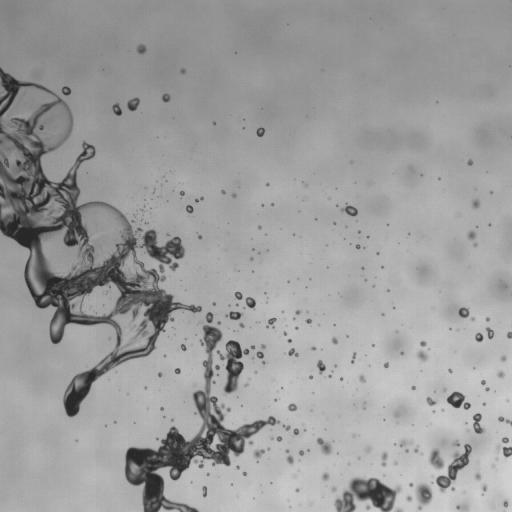droplet: (217, 340, 249, 393), (415, 483, 433, 510), (446, 391, 470, 409), (428, 448, 444, 469), (317, 437, 332, 455), (341, 204, 357, 216), (496, 445, 511, 457), (127, 97, 139, 111), (416, 350, 428, 362), (253, 448, 265, 459), (227, 311, 243, 319), (245, 297, 255, 309), (458, 307, 469, 317), (112, 103, 121, 115), (317, 360, 325, 373), (400, 439, 412, 447), (426, 397, 437, 405), (486, 327, 493, 339), (137, 44, 146, 53), (61, 86, 70, 95), (267, 318, 276, 327), (467, 230, 475, 240), (475, 332, 483, 342), (288, 348, 298, 356), (162, 93, 170, 102), (256, 127, 264, 136), (288, 403, 297, 411), (472, 199, 479, 208), (186, 205, 193, 213), (234, 292, 242, 299), (256, 351, 263, 359), (501, 437, 509, 444), (322, 472, 329, 480), (497, 371, 504, 378), (475, 472, 481, 480), (359, 375, 365, 382), (293, 428, 299, 435), (500, 355, 506, 361), (453, 440, 459, 446), (332, 337, 337, 344), (283, 425, 290, 430), (179, 191, 184, 197), (306, 318, 311, 324), (420, 341, 426, 346), (181, 344, 186, 350), (174, 368, 180, 373), (482, 485, 487, 491), (331, 486, 336, 492), (406, 495, 411, 501), (503, 500, 508, 506), (507, 331, 511, 338), (467, 160, 472, 165), (276, 436, 281, 441), (180, 69, 185, 73), (355, 244, 360, 248), (295, 310, 300, 314), (239, 323, 244, 327), (261, 344, 265, 349), (384, 362, 388, 367), (414, 447, 418, 452), (299, 450, 303, 455), (232, 193, 236, 197), (485, 317, 489, 321), (311, 346, 315, 350), (158, 372, 162, 376), (481, 380, 485, 384), (485, 387, 489, 391), (295, 488, 299, 492), (221, 190, 225, 193), (198, 235, 202, 238), (473, 242, 476, 246), (283, 331, 286, 335), (251, 345, 254, 349), (309, 375, 312, 379), (411, 386, 415, 389), (366, 447, 369, 451), (471, 317, 474, 320), (288, 339, 291, 342), (448, 369, 451, 372), (245, 383, 248, 386), (243, 472, 246, 475), (409, 483, 412, 486), (266, 183, 269, 185), (258, 226, 261, 228), (250, 257, 253, 259), (295, 326, 297, 329), (328, 375, 331, 377), (160, 407, 163, 409), (236, 466, 239, 468), (271, 203, 273, 205), (358, 230, 360, 232), (362, 267, 364, 269), (400, 352, 402, 354), (262, 361, 264, 363), (340, 377, 342, 379), (394, 414, 396, 416), (156, 438, 158, 440), (207, 473, 209, 475)
ligament: (0, 67, 201, 417), (125, 312, 279, 511), (334, 477, 403, 511), (435, 444, 471, 492), (473, 413, 484, 433), (498, 416, 511, 425), (286, 449, 293, 465), (381, 451, 387, 466), (456, 505, 466, 511), (351, 353, 356, 362), (195, 197, 203, 202), (202, 486, 206, 496)
